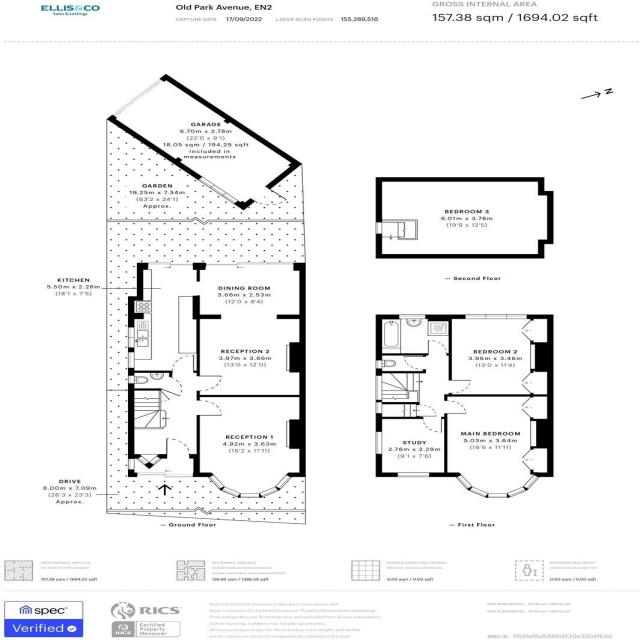DOOR: (159, 376, 183, 397), (165, 438, 190, 458), (196, 399, 223, 416), (196, 375, 222, 392), (171, 355, 194, 373), (422, 416, 442, 433), (444, 400, 467, 414), (403, 356, 426, 370), (448, 380, 471, 394), (427, 340, 448, 355)
ROOM: (128, 262, 306, 397), (193, 395, 306, 498), (444, 394, 554, 499), (448, 314, 554, 397), (375, 417, 448, 477)
WINDOW: (207, 474, 293, 498), (455, 474, 540, 498), (136, 455, 163, 470), (465, 314, 528, 319), (375, 375, 383, 401), (375, 431, 383, 455), (127, 327, 135, 348), (397, 472, 430, 477), (399, 314, 426, 319), (127, 352, 135, 368), (375, 402, 383, 414), (128, 458, 135, 470), (375, 360, 382, 369), (128, 375, 135, 384)
